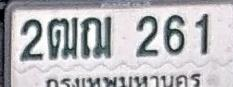1: (195, 14, 209, 54)
2: (20, 18, 42, 60), (136, 15, 158, 56)
6: (164, 14, 184, 54)
A12: (80, 15, 112, 58)
A18: (47, 16, 78, 60)
